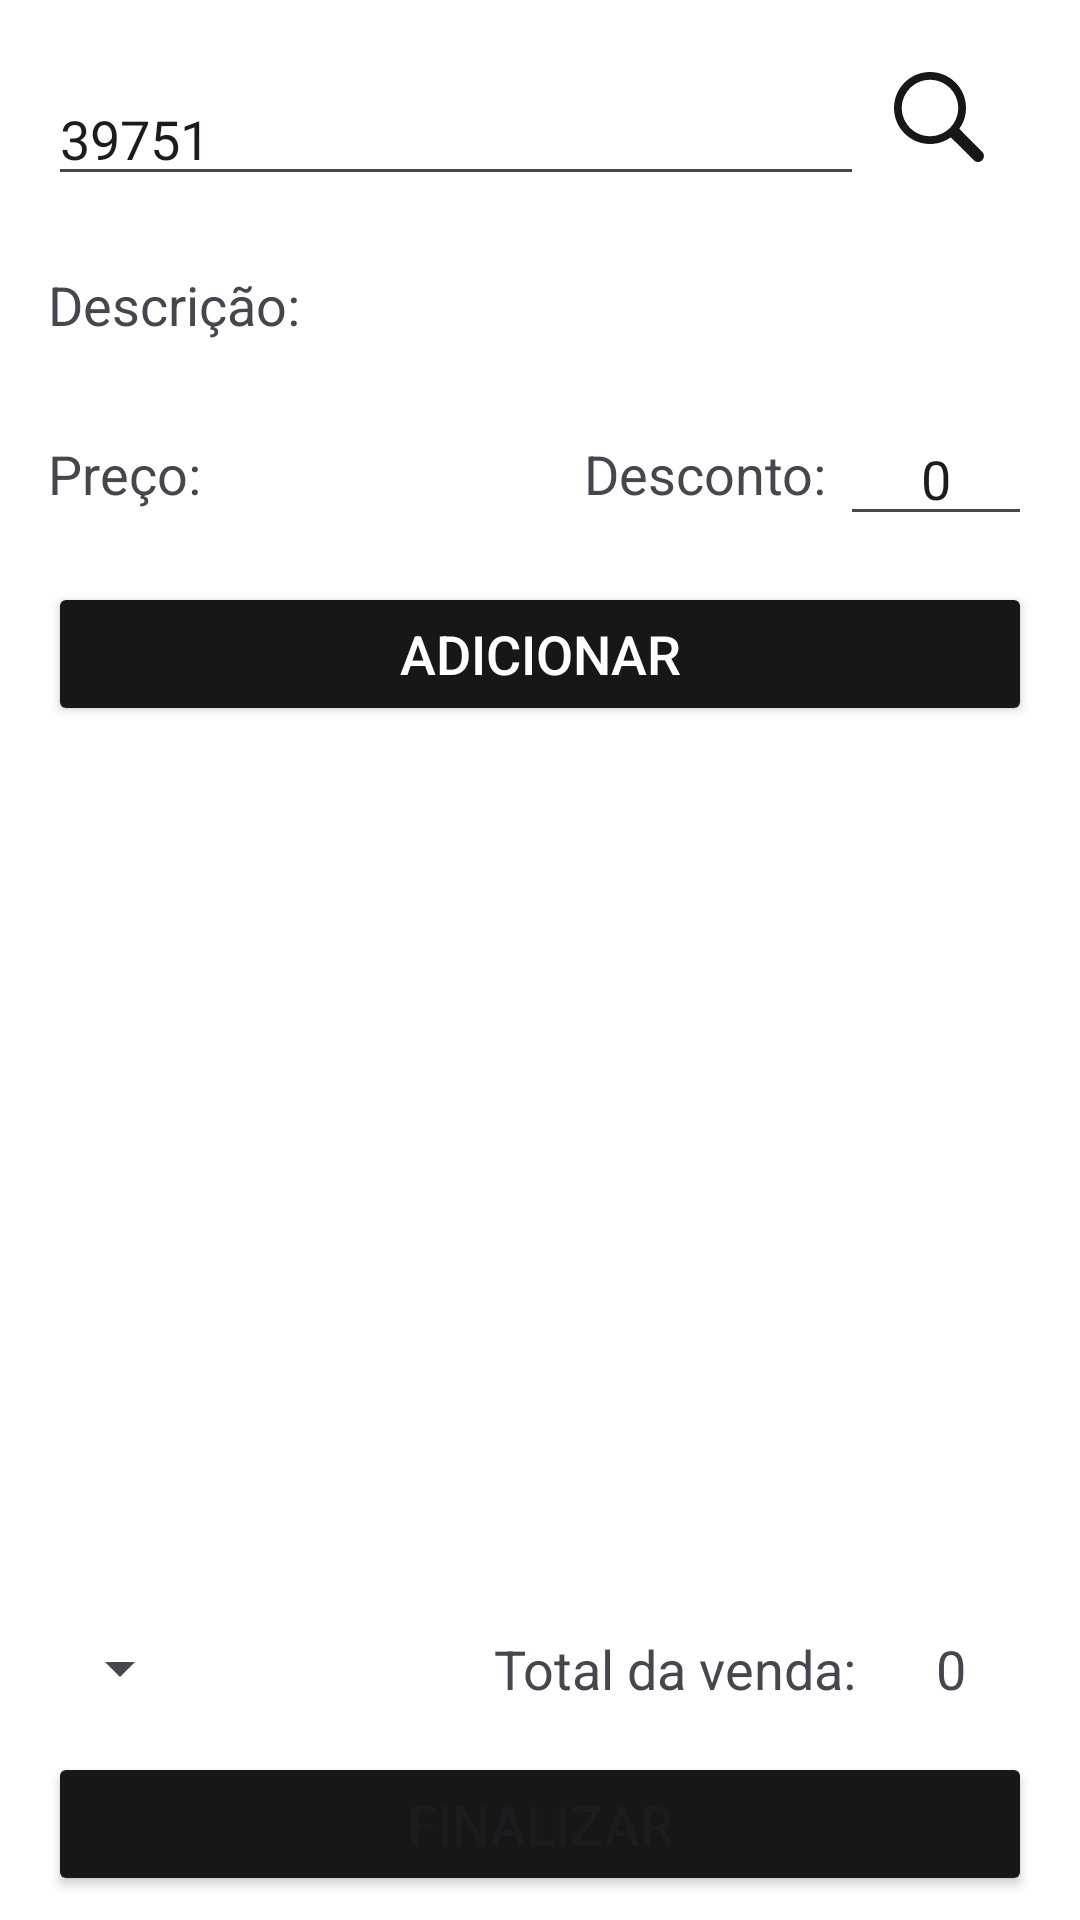

Where to tap for icons on this 1080*1920 app screen, as (x,y):
lupa: (939,117)
